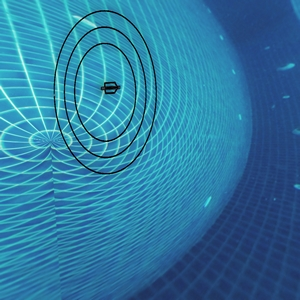submarine: (102, 80, 122, 94)
